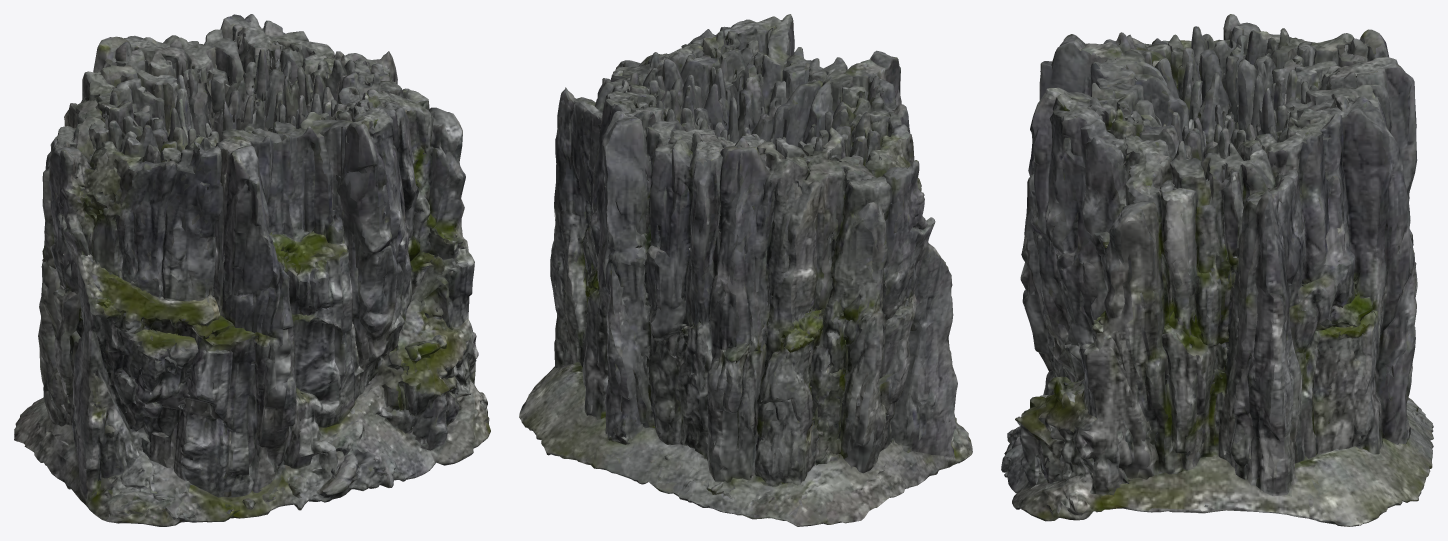
File: granite-cliff-v3-lod.glb
3 renders of one model, left to right at view 1: azimuth 30°, elevation 25°; view 2: azimuth 150°, elevation 25°; view 3: azimuth 270°, elevation 25°, orthographic. The views are drawn at different scales.
Visible parts, largest first — view 1: geometry_0; view 2: geometry_0; view 3: geometry_0.
Boxes of the visible parts, x1,y1,x2,y2 form: geometry_0: [14, 14, 490, 526]; geometry_0: [519, 14, 972, 526]; geometry_0: [1001, 14, 1433, 526].
Size of the model in its own units: 206 by 200 by 196.
Materials: 1 (1 with a texture image).
